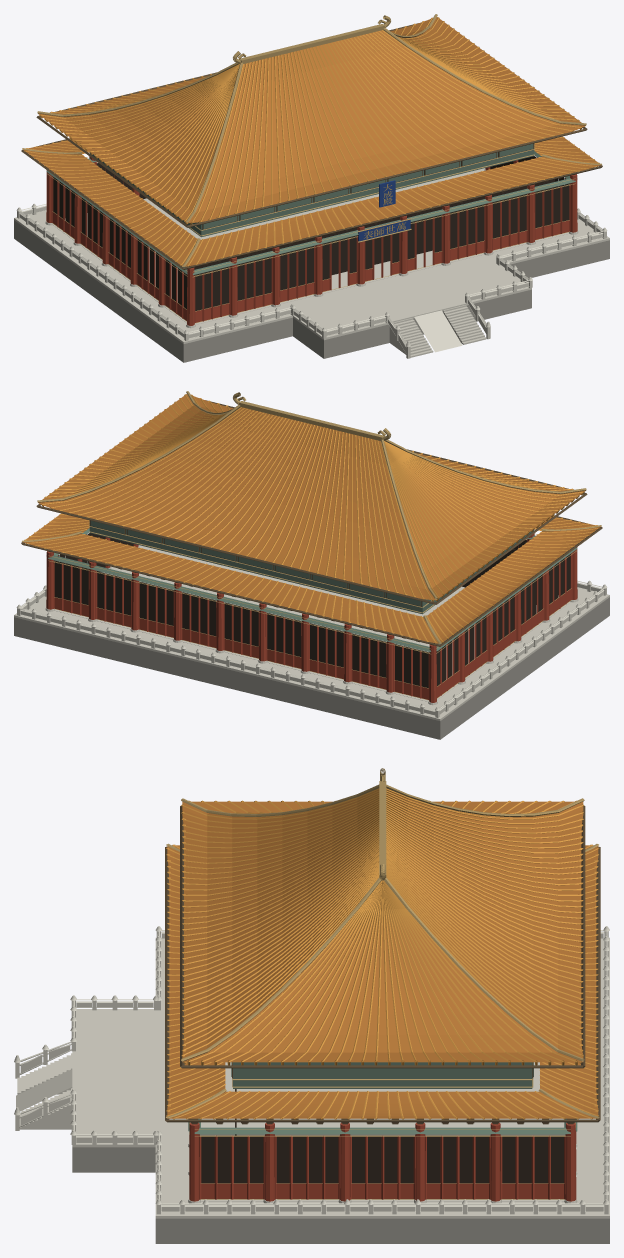
Rendered from confucius-preview.glb.
3 views of the same model, one above another, from view 1: azimuth 30°, elevation 25°; view 2: azimuth 150°, elevation 25°; view 3: azimuth 270°, elevation 25° (orthographic). The views are drawn at different scales.
Visible parts, largest first — view 1: confucius preview roof, confucius preview tile, confucius preview stone, confucius preview red, confucius preview shadow, confucius preview base, confucius preview gold, confucius preview jade, confucius preview wood, confucius preview blue; view 2: confucius preview roof, confucius preview tile, confucius preview red, confucius preview stone, confucius preview shadow, confucius preview base, confucius preview jade, confucius preview gold, confucius preview wood; view 3: confucius preview roof, confucius preview tile, confucius preview stone, confucius preview base, confucius preview shadow, confucius preview red, confucius preview jade, confucius preview wood, confucius preview gold.
Boxes of the visible parts, <box> form: confucius preview roof: <box>23,17,600,266</box>; confucius preview tile: <box>24,17,599,266</box>; confucius preview stone: <box>14,168,609,358</box>; confucius preview red: <box>46,156,577,325</box>; confucius preview shadow: <box>53,156,569,310</box>; confucius preview base: <box>14,220,609,362</box>; confucius preview gold: <box>22,14,601,323</box>; confucius preview jade: <box>46,143,575,274</box>; confucius preview wood: <box>21,23,602,269</box>; confucius preview blue: <box>358,180,410,241</box>; confucius preview roof: <box>23,394,600,643</box>; confucius preview tile: <box>24,394,599,643</box>; confucius preview red: <box>46,533,577,702</box>; confucius preview stone: <box>14,539,609,720</box>; confucius preview shadow: <box>54,533,570,687</box>; confucius preview base: <box>14,597,609,739</box>; confucius preview jade: <box>48,520,577,651</box>; confucius preview gold: <box>22,391,601,700</box>; confucius preview wood: <box>21,400,602,646</box>; confucius preview roof: <box>167,790,598,1118</box>; confucius preview tile: <box>166,788,599,1119</box>; confucius preview stone: <box>14,926,609,1218</box>; confucius preview base: <box>72,1147,609,1243</box>; confucius preview shadow: <box>200,1089,564,1183</box>; confucius preview red: <box>189,1123,576,1201</box>; confucius preview jade: <box>188,1062,577,1134</box>; confucius preview wood: <box>165,805,600,1124</box>; confucius preview gold: <box>166,768,599,1199</box>.
Size of the model in its own units: 0.4797 by 0.2317 by 0.4338.
